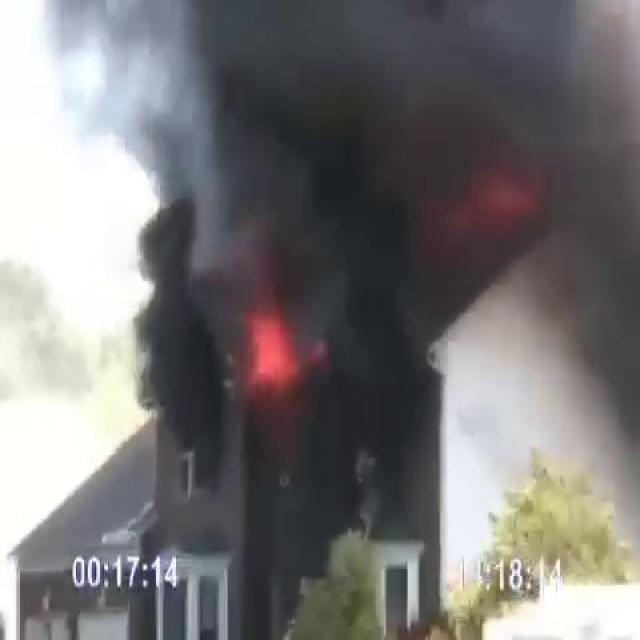Smoke: (126, 0, 638, 441)
